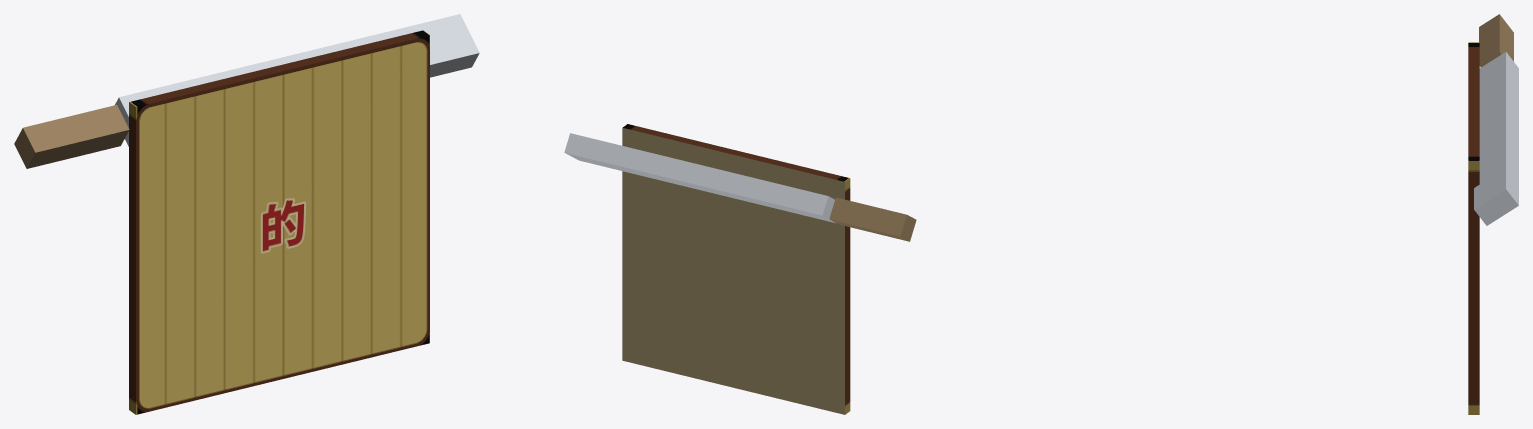
Rendered from iaido_1tou_3d.glb.
3 views of the same model, side by side, from view 1: azimuth 30°, elevation 25°; view 2: azimuth 150°, elevation 25°; view 3: azimuth 270°, elevation 25° (orthographic). The views are drawn at different scales.
Visible parts, largest first — view 1: iaido_target, sword_blade, sword_handle; view 2: iaido_target, sword_blade, sword_handle; view 3: sword_blade, iaido_target, sword_handle.
Boxes of the visible parts, x1,y1,x2,y2 form: iaido_target: [129, 30, 429, 414]; sword_blade: [115, 14, 479, 146]; sword_handle: [14, 105, 129, 168]; iaido_target: [622, 124, 850, 414]; sword_blade: [564, 133, 835, 222]; sword_handle: [829, 197, 916, 241]; sword_blade: [1474, 52, 1518, 225]; iaido_target: [1468, 42, 1479, 414]; sword_handle: [1479, 14, 1513, 67].
Bounding box in the file's own units: 0.75 × 0.5 × 0.9201.
9 materials, 4 textured.
